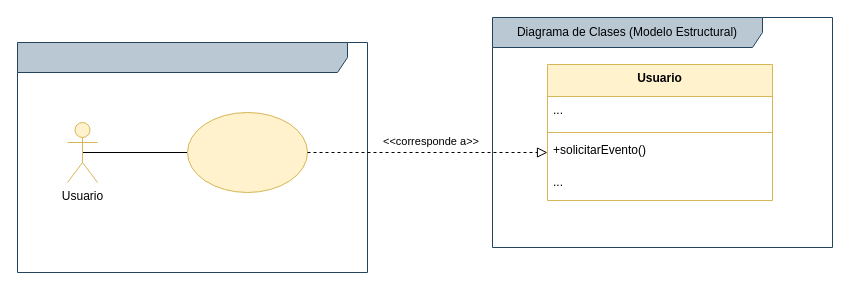
Some shapes in this 850 by 290 pixel diagram are drawn without their labels. The box of each missing label's shape, as (x1, y1, x2, y2) in pixels:
Diagrama de Casos de Uso (Modelo de Requerimientos): (16, 42, 368, 272)
Solicitar Evento: (186, 112, 308, 192)
